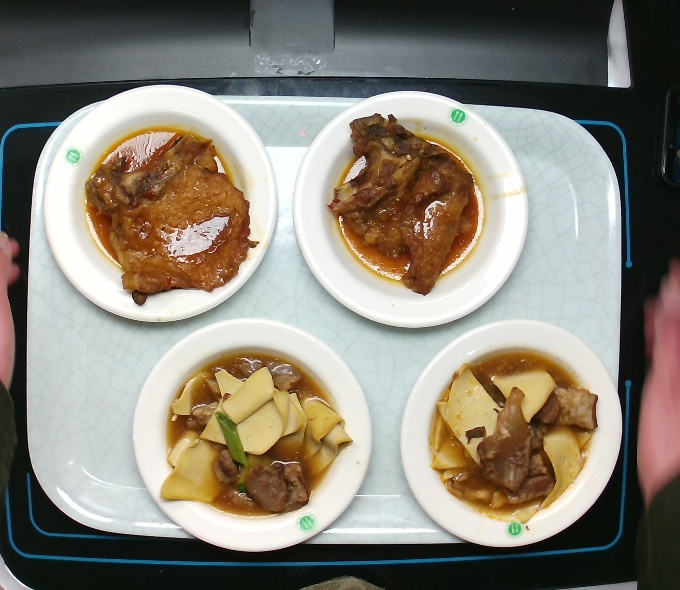wcq-DaPai: (80, 120, 254, 303), (329, 103, 486, 295)
wcq-QianZhangNiuRou: (414, 341, 601, 522), (159, 340, 346, 521)
